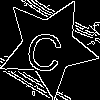C: (23, 21, 68, 74)
